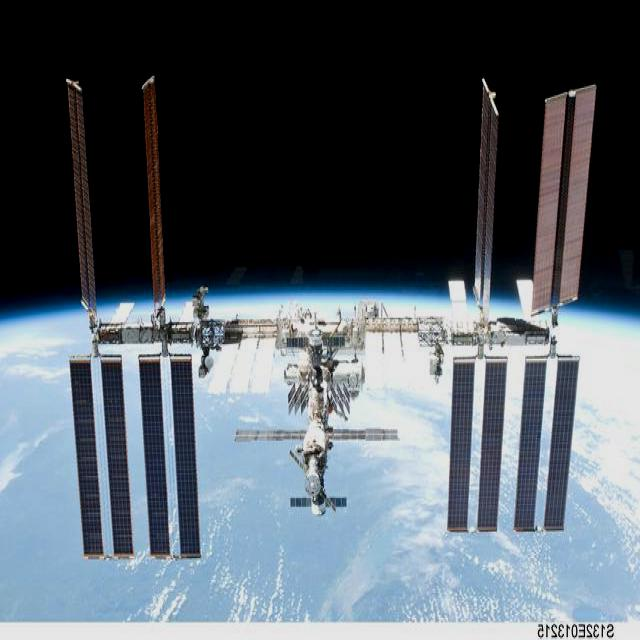medium_debris: (56, 60, 603, 568)
